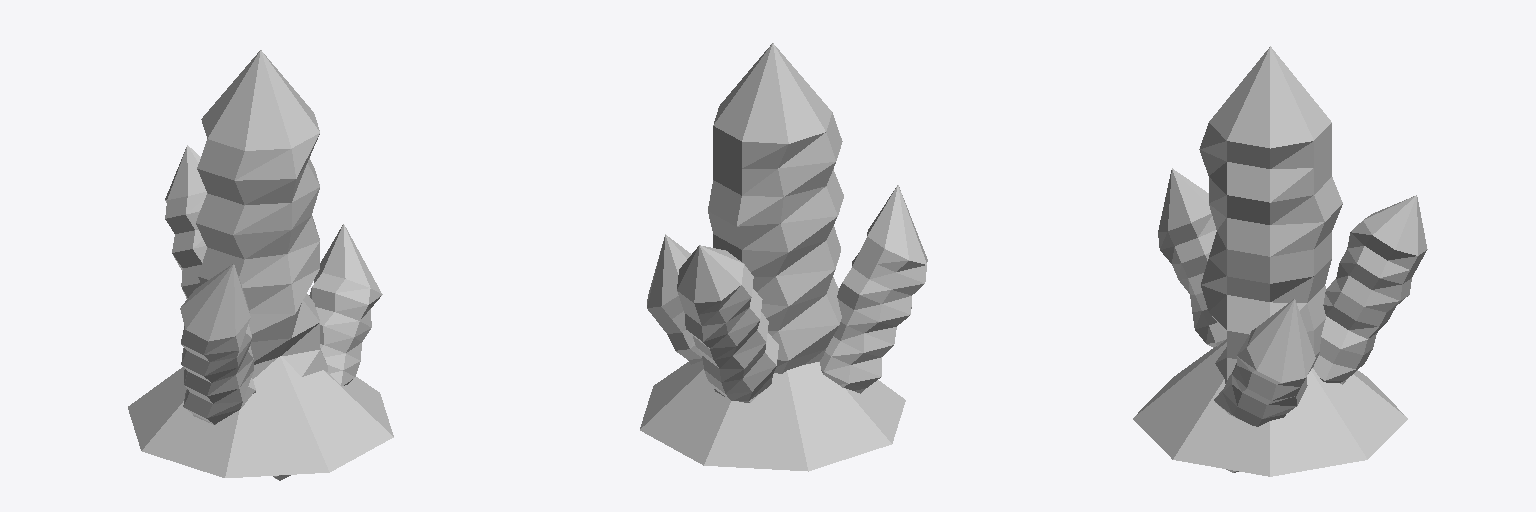
Rendered from CLEARCRYSTAL.obj.
3 views of the same model, side by side, from view 1: azimuth 30°, elevation 25°; view 2: azimuth 150°, elevation 25°; view 3: azimuth 270°, elevation 25° (orthographic).
Parts seen in each view (by area): view 1: Cone, Cone.001, Cone.003, Cone.004, Cone.002; view 2: Cone, Cone.001, Cone.003, Cone.002, Cone.004; view 3: Cone, Cone.001, Cone.002, Cone.004, Cone.003.
Part boxes in pixels (left/top/right/bottom): Cone: left=196, top=50, right=327, bottom=378; Cone.001: left=128, top=356, right=393, bottom=477; Cone.003: left=180, top=264, right=255, bottom=424; Cone.004: left=273, top=224, right=382, bottom=480; Cone.002: left=165, top=145, right=206, bottom=298; Cone: left=708, top=43, right=843, bottom=373; Cone.001: left=640, top=361, right=905, bottom=471; Cone.003: left=819, top=185, right=927, bottom=393; Cone.002: left=677, top=245, right=778, bottom=402; Cone.004: left=647, top=234, right=702, bottom=364; Cone: left=1199, top=46, right=1342, bottom=383; Cone.001: left=1133, top=339, right=1407, bottom=476; Cone.002: left=1313, top=195, right=1427, bottom=384; Cone.004: left=1214, top=299, right=1315, bottom=472; Cone.003: left=1158, top=168, right=1226, bottom=347.
Size of the model in its own units: 4.47 by 7.5 by 4.78.